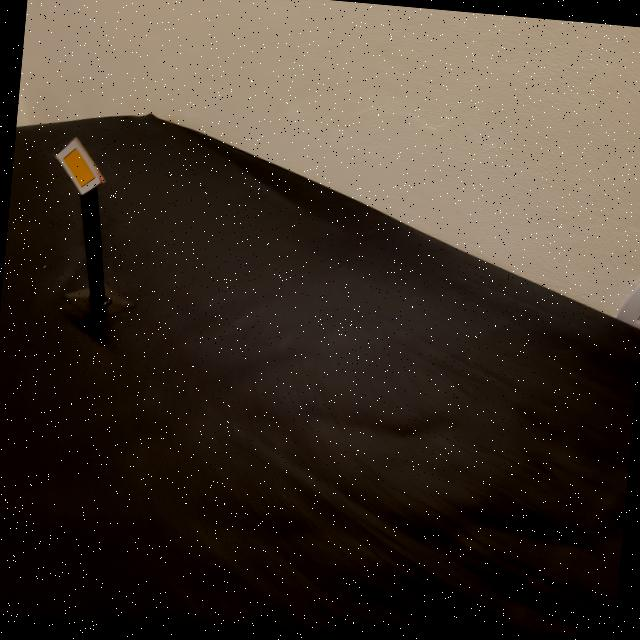priority: (49, 136, 108, 198)
